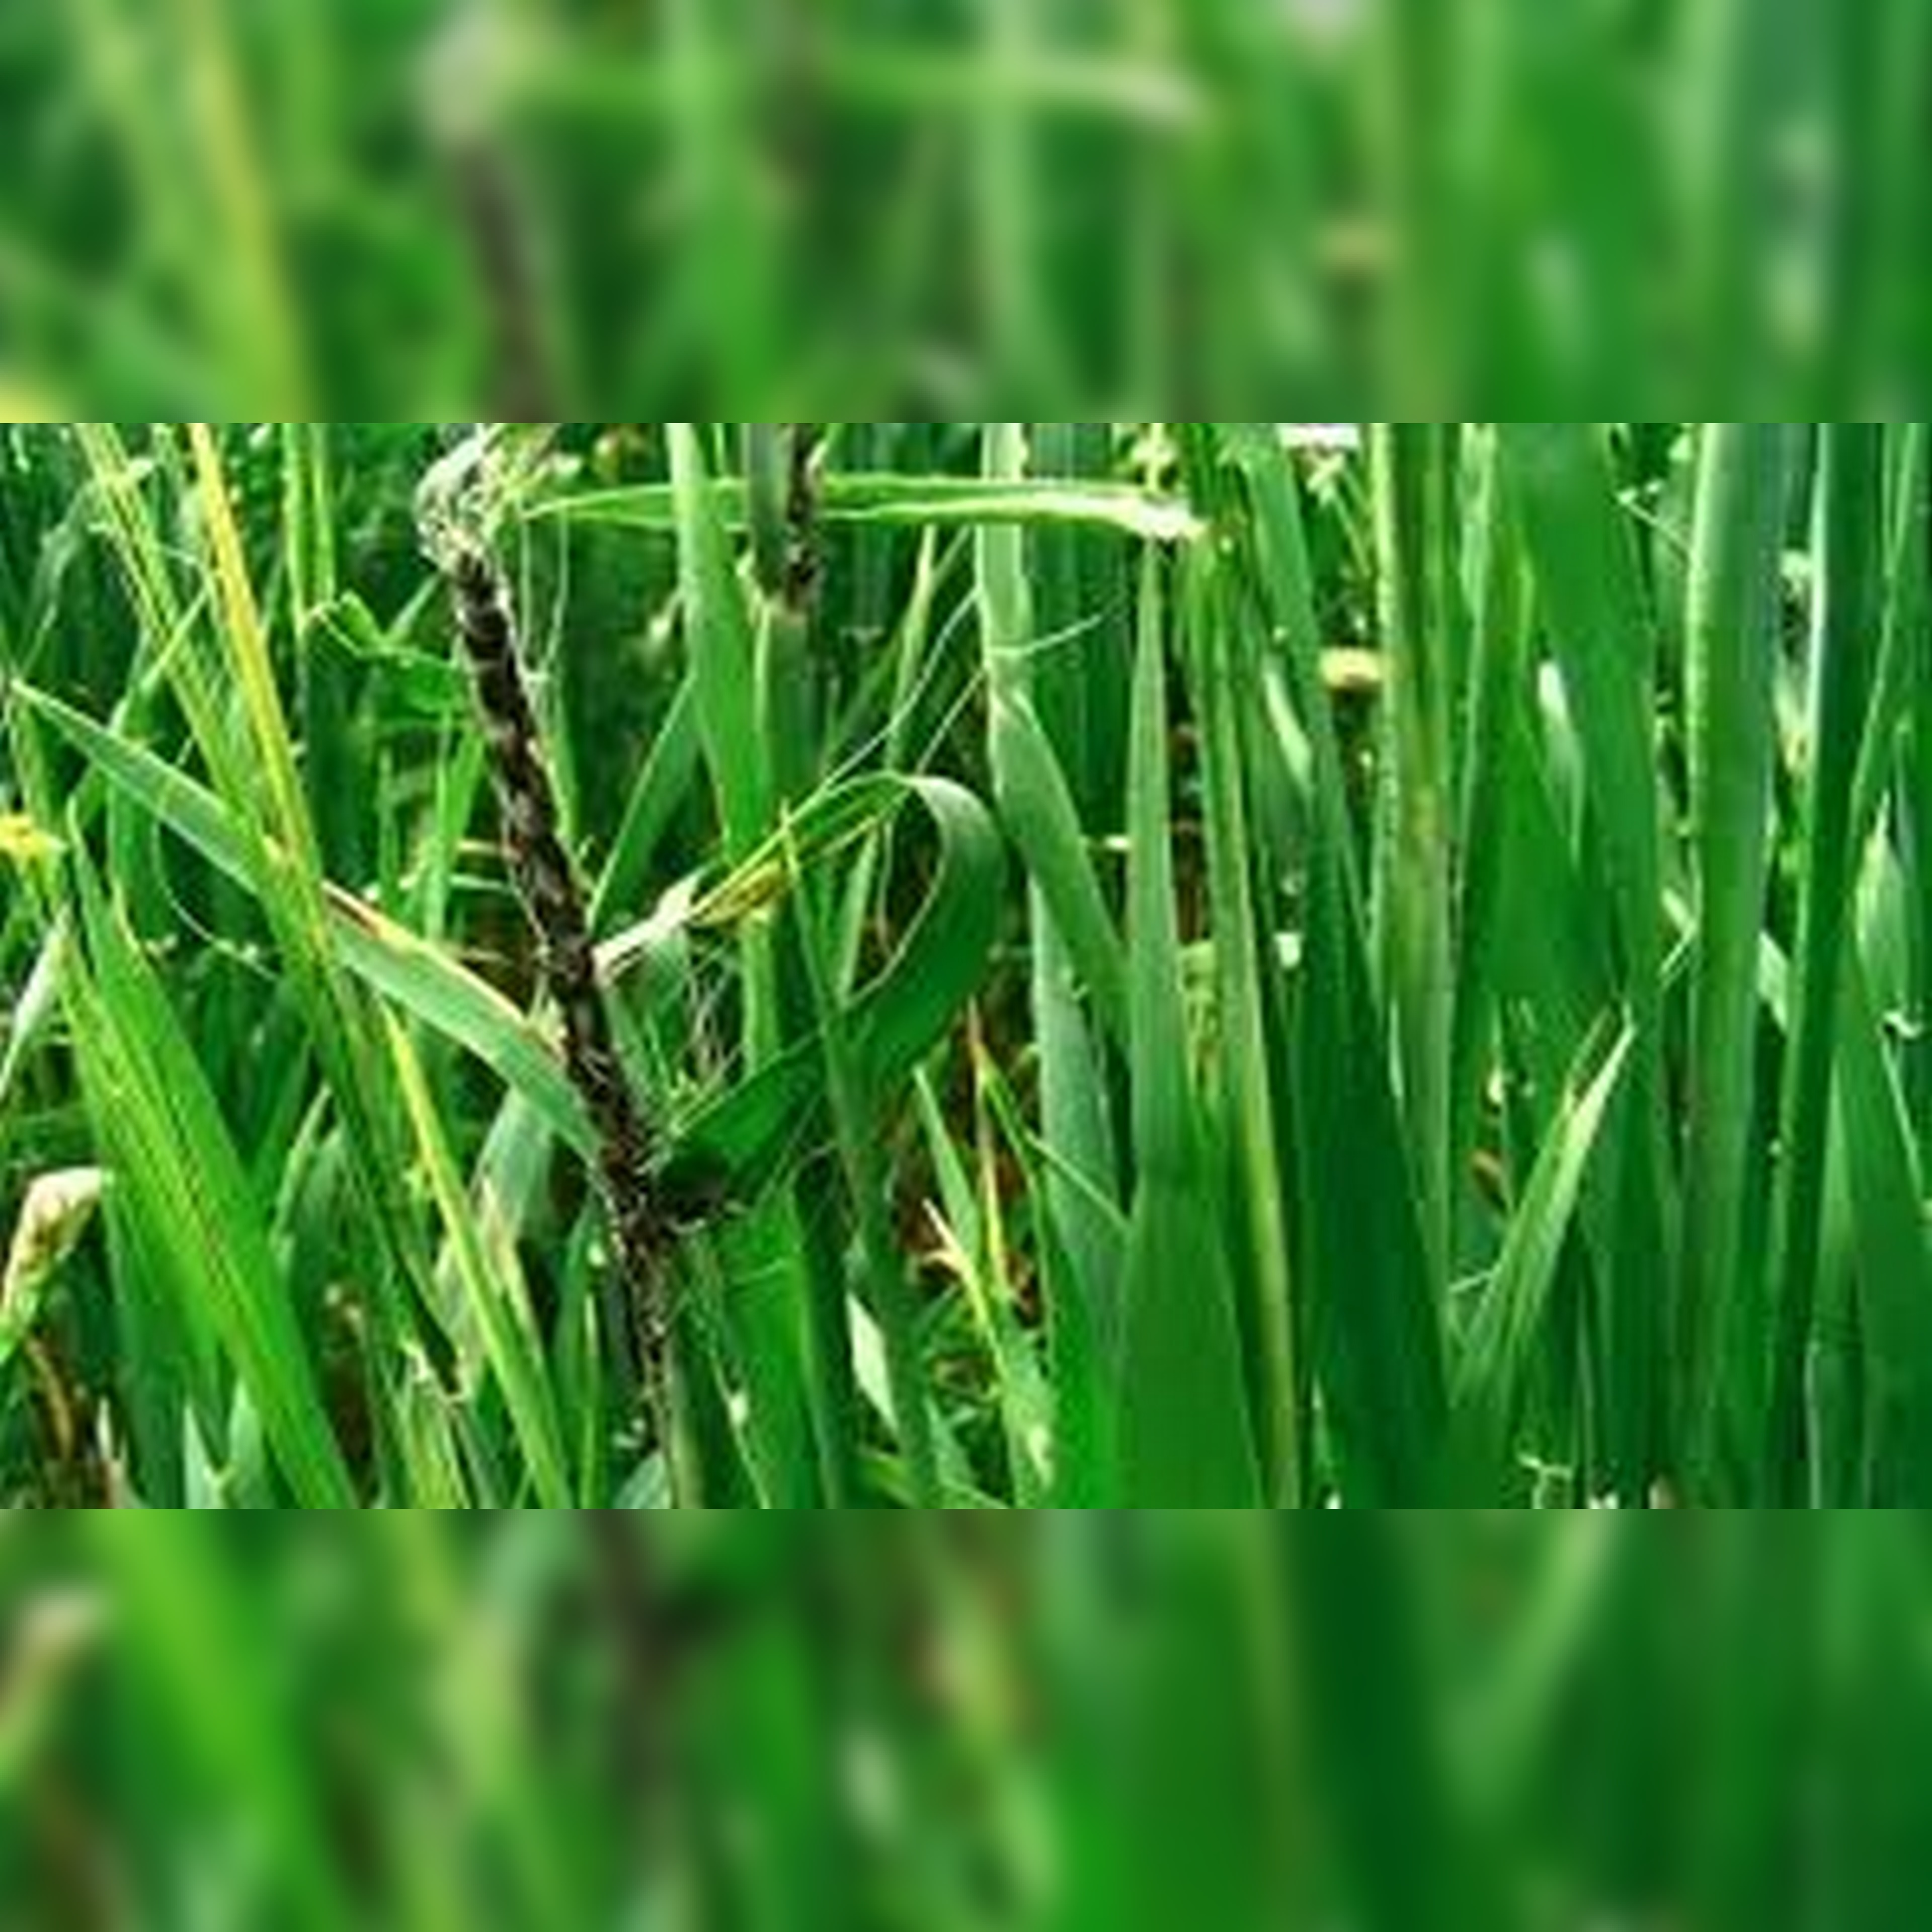Wheat Loose Smut: (395, 538, 773, 1327)
